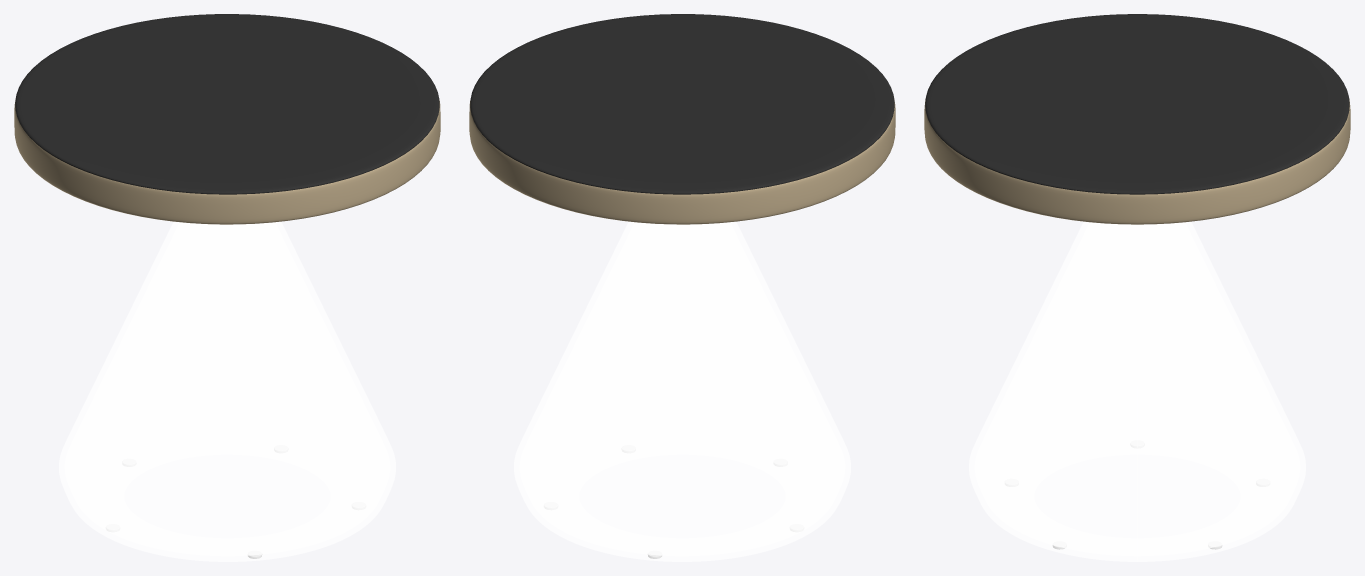
The model's file is goldBlackTable.glb.
The picture shows the model from 3 angles, left to right: view 1: azimuth 30°, elevation 25°; view 2: azimuth 150°, elevation 25°; view 3: azimuth 270°, elevation 25°; orthographic projection.
Visible parts, largest first — view 1: polySurface11 (×2); view 2: polySurface11 (×2); view 3: polySurface11 (×2).
Boxes of the visible parts, left/top/right/bottom form: polySurface11 (×2): left=14, top=14, right=440, bottom=561; polySurface11 (×2): left=469, top=14, right=895, bottom=561; polySurface11 (×2): left=924, top=14, right=1350, bottom=561.
Size of the model in its own units: 0.41 by 0.4233 by 0.41.
Materials: 2 (2 with a texture image).
